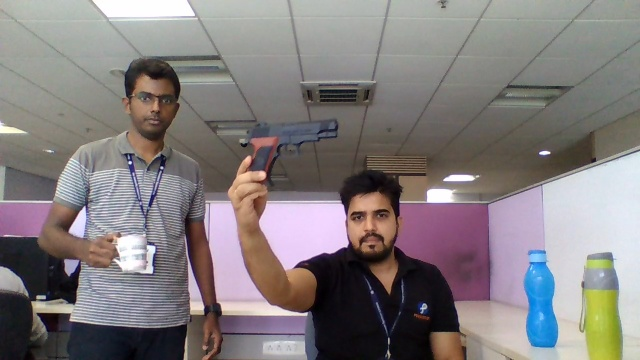gun: (246, 119, 340, 170)
